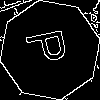P: (25, 25, 77, 67)
